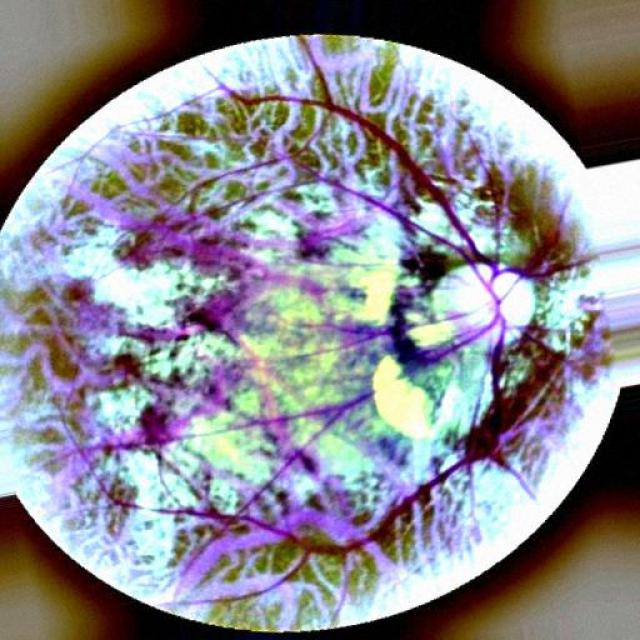Nerves: (325, 104, 522, 350)
Optic Disk: (440, 266, 490, 328), (491, 271, 534, 328), (421, 326, 439, 345), (429, 325, 434, 330)
